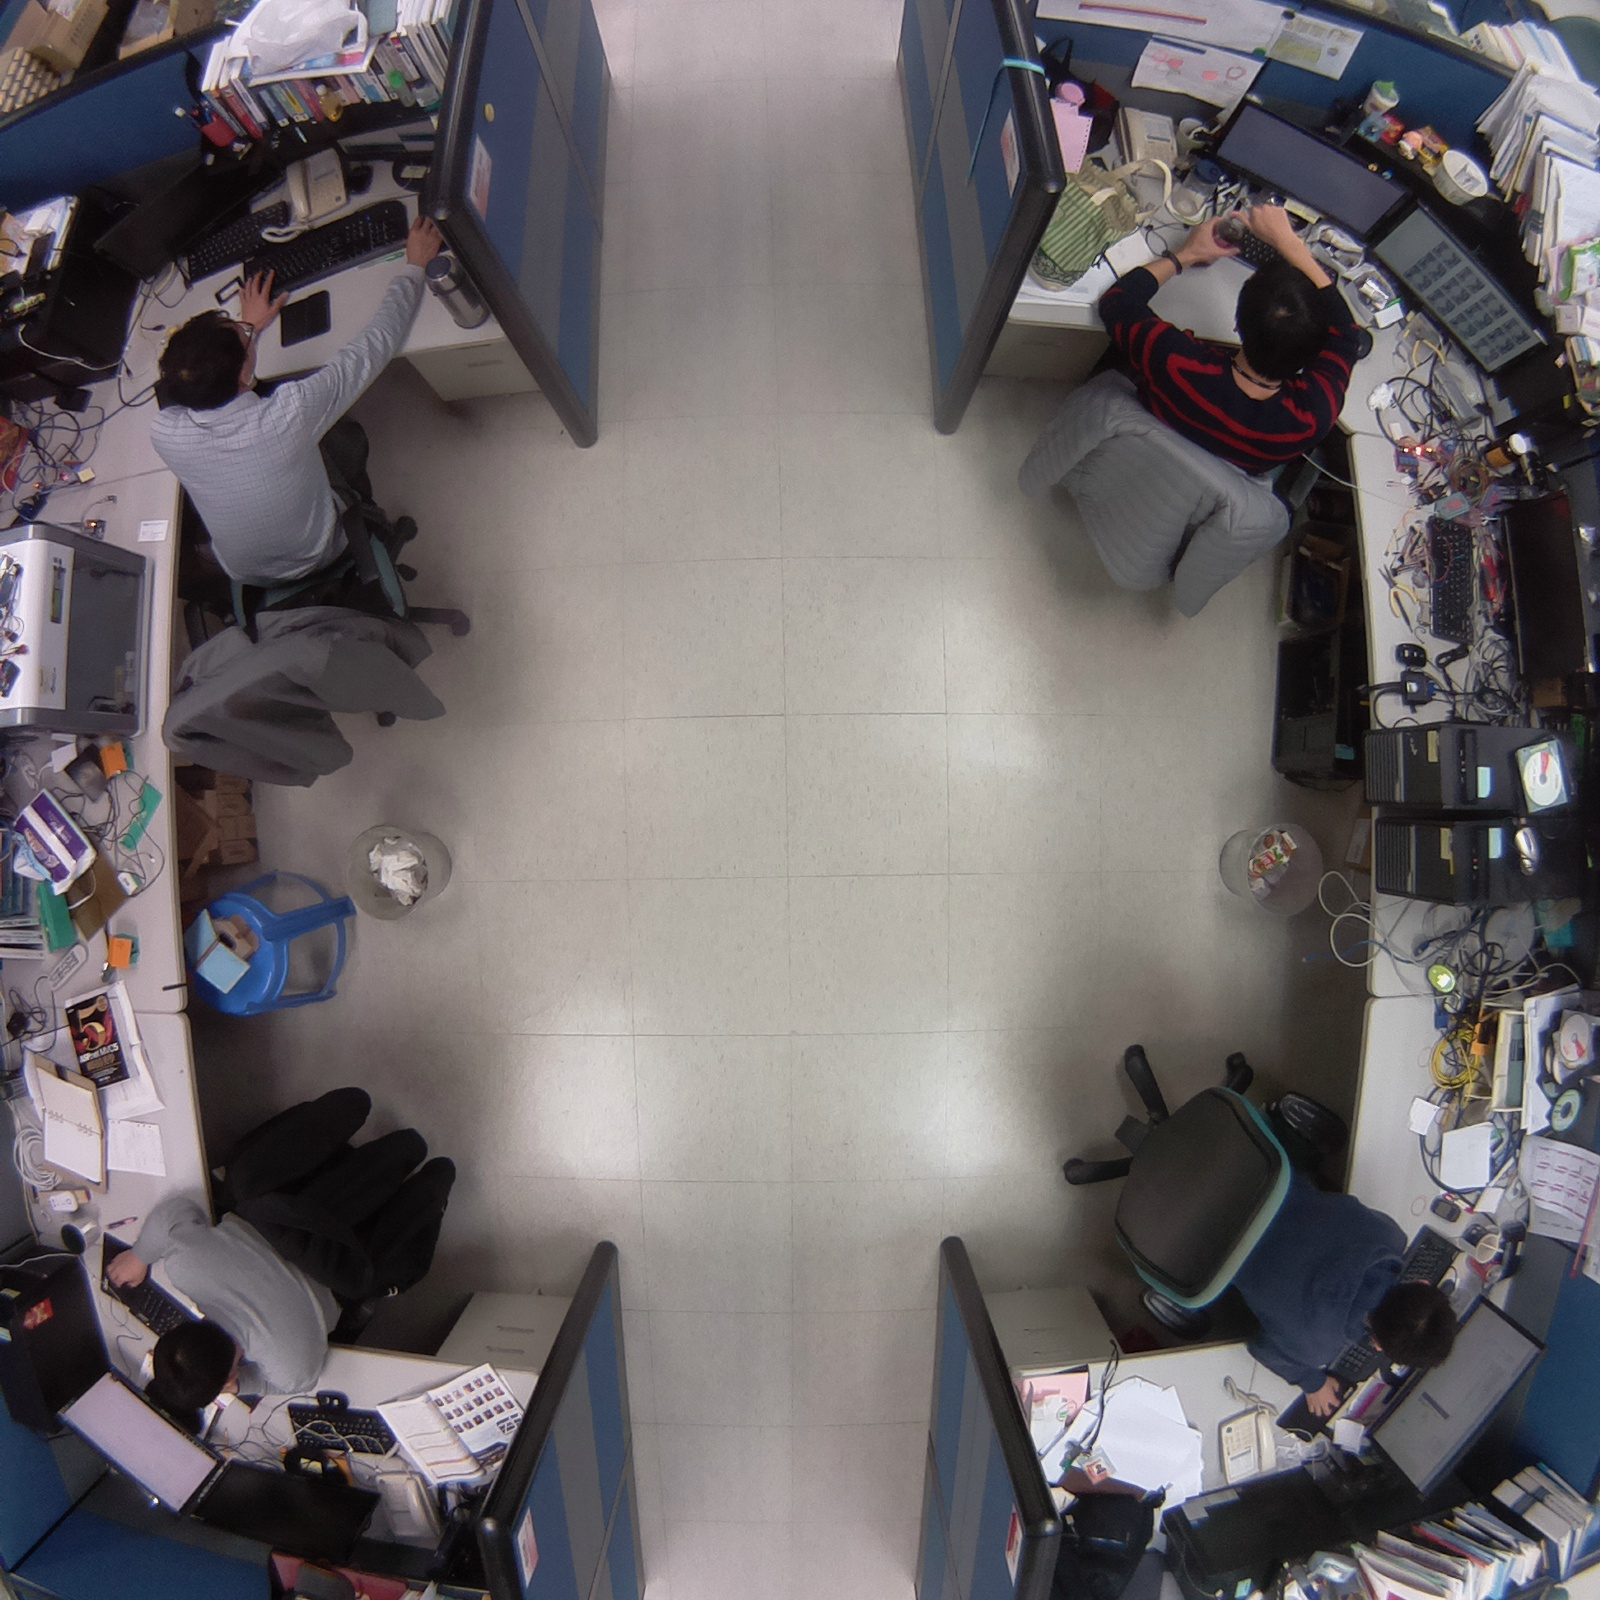head: (1229, 257, 1323, 391), (155, 310, 259, 412), (1368, 1268, 1463, 1376), (151, 1314, 238, 1419)
sitting: (132, 219, 483, 799), (1050, 1017, 1463, 1422), (1012, 188, 1386, 629), (106, 1070, 483, 1429)
